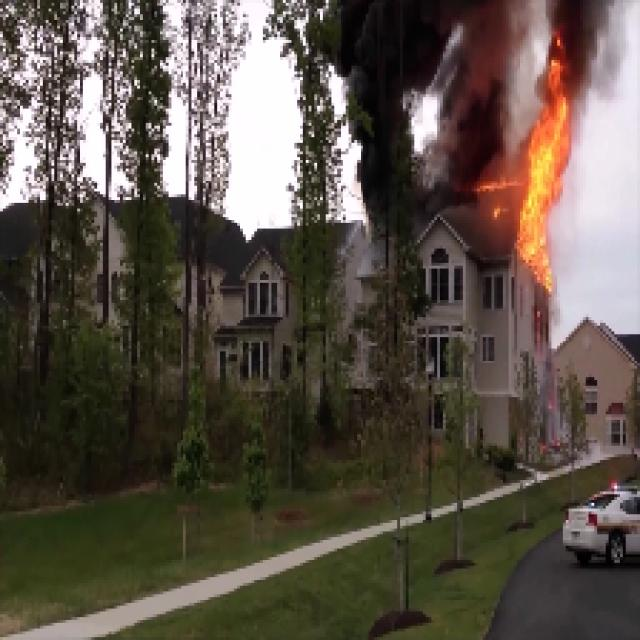fire: (524, 75, 571, 274)
smoke: (386, 7, 504, 190)
